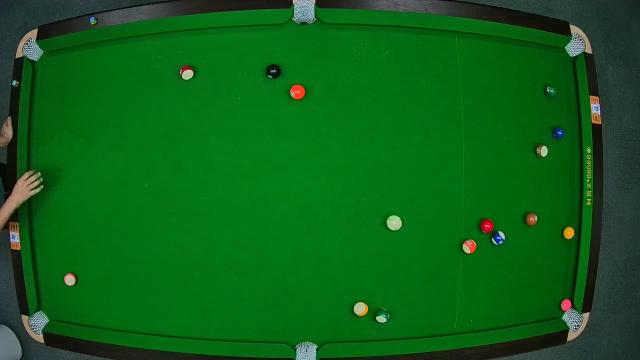bag1: (24, 40, 40, 62)
bag2: (292, 2, 316, 22)
bag3: (566, 34, 584, 56)
bag4: (27, 310, 49, 336)
bag5: (295, 342, 319, 360)
bag6: (562, 308, 584, 332)
ball0: (386, 214, 402, 232)
ball1: (562, 224, 576, 242)
ball10: (492, 229, 506, 246)
ball11: (178, 66, 196, 80)
ball12: (64, 272, 78, 288)
ball13: (462, 238, 476, 256)
ball14: (373, 308, 391, 324)
ball15: (532, 144, 548, 160)
ball2: (552, 125, 568, 141)
ball3: (480, 218, 494, 234)
ball4: (560, 298, 572, 310)
ball5: (288, 84, 306, 100)
ball7: (524, 211, 538, 227)
ball8: (544, 82, 560, 98), (266, 64, 282, 80)
ball9: (352, 301, 370, 317)
